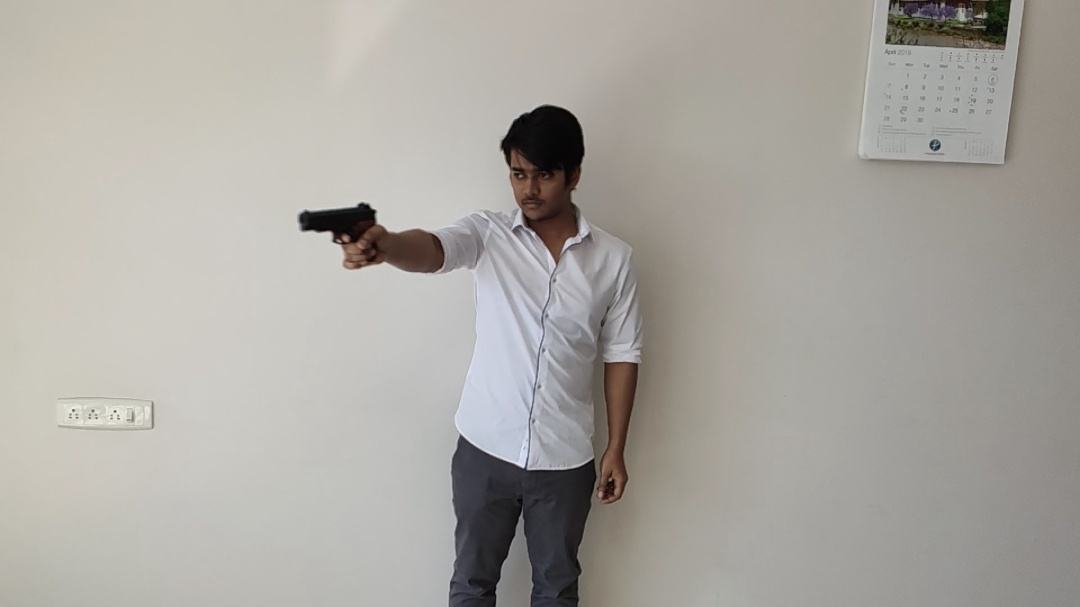gun: (298, 201, 377, 246)
